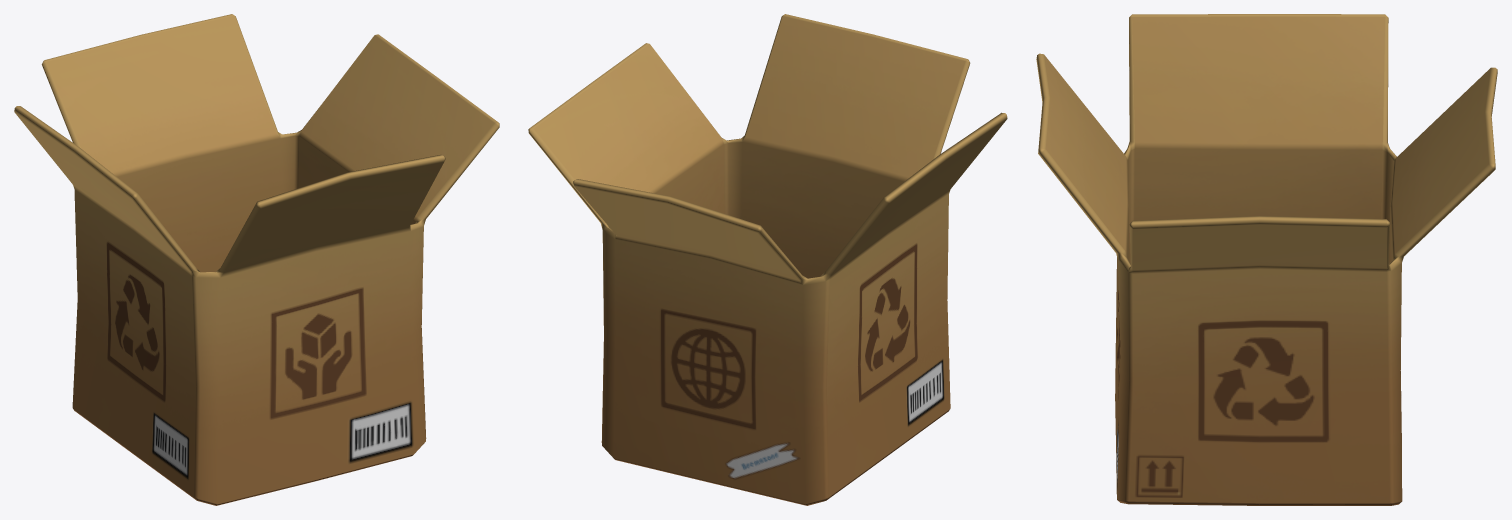
Rendered from SM_Casual_box_open.fbx.
The picture shows the model from 3 angles, left to right: view 1: azimuth 30°, elevation 25°; view 2: azimuth 150°, elevation 25°; view 3: azimuth 270°, elevation 25°; orthographic projection. The views are drawn at different scales.
Visible parts, largest first — view 1: casual_box_open; view 2: casual_box_open; view 3: casual_box_open.
Part boxes in pixels (x1,y1,x2,y2): casual_box_open: (14,14,499,505); casual_box_open: (528,14,1007,505); casual_box_open: (1036,14,1497,505).
Size of the model in its own units: 97.14 by 84.36 by 98.73.
Materials: 1 (1 with a texture image).
